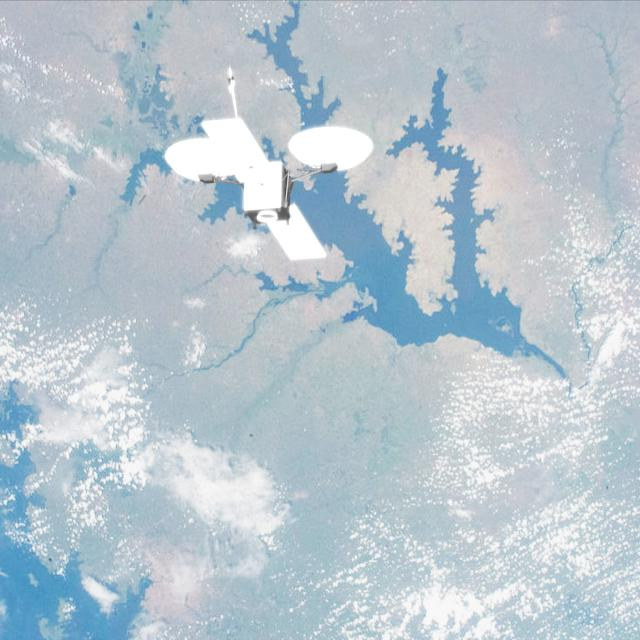satellite: (153, 102, 378, 268)
